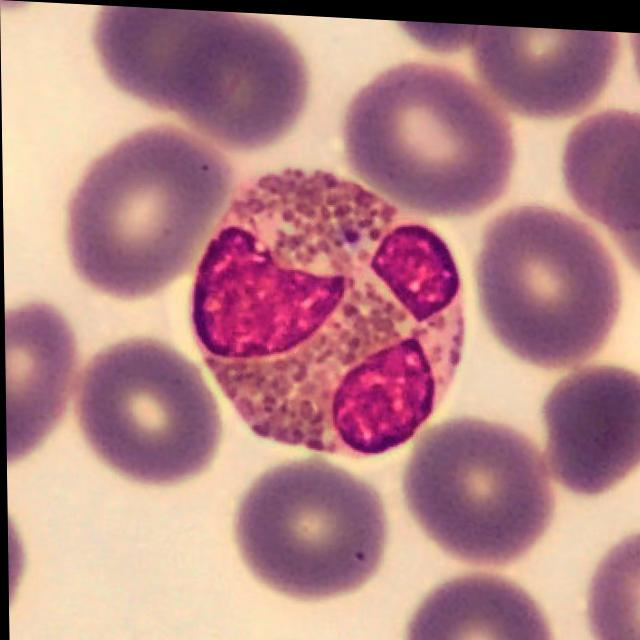Eosinofilo: (186, 163, 468, 453)
